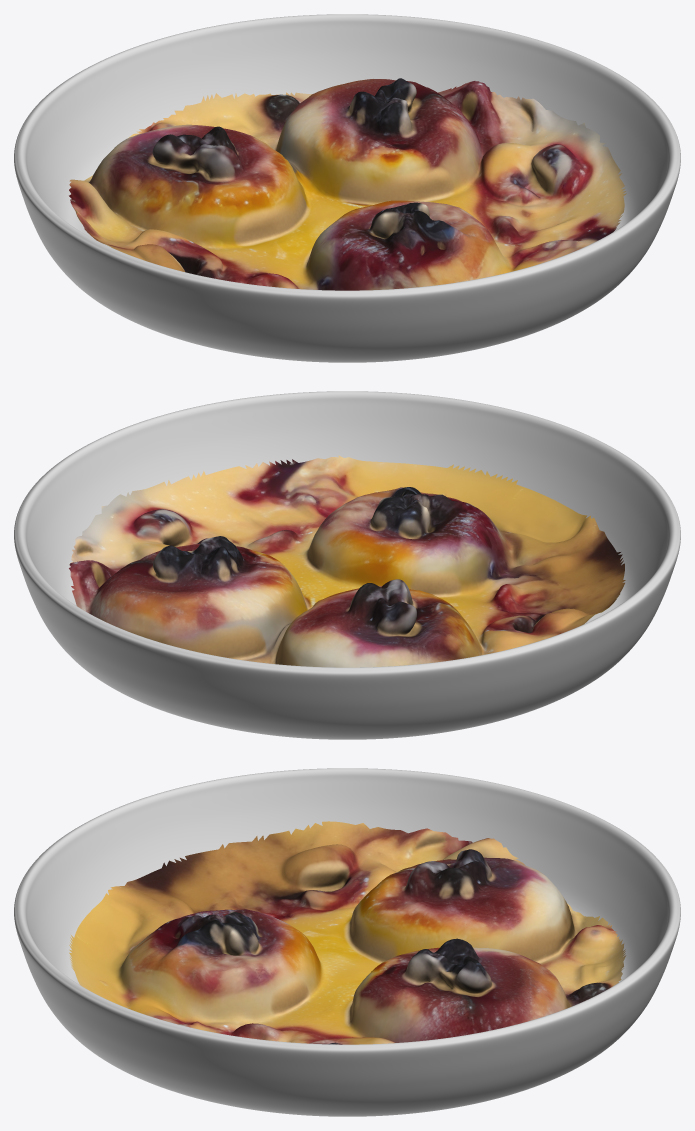
The model's file is food_in_white_bowl_12MB.glb.
3 views of the same model, one above another, from view 1: azimuth 30°, elevation 25°; view 2: azimuth 150°, elevation 25°; view 3: azimuth 270°, elevation 25° (orthographic).
Parts seen in each view (by area): view 1: White porcelain bowl, model; view 2: White porcelain bowl, model; view 3: White porcelain bowl, model.
Boxes of the visible parts, <box> form: White porcelain bowl: <box>14,14,680,362</box>; model: <box>69,78,626,290</box>; White porcelain bowl: <box>14,391,680,739</box>; model: <box>69,455,625,667</box>; White porcelain bowl: <box>14,768,680,1116</box>; model: <box>69,821,626,1044</box>.
Bounding box in the file's own units: 1.99 × 0.3735 × 1.99.
2 materials, 1 textured.
